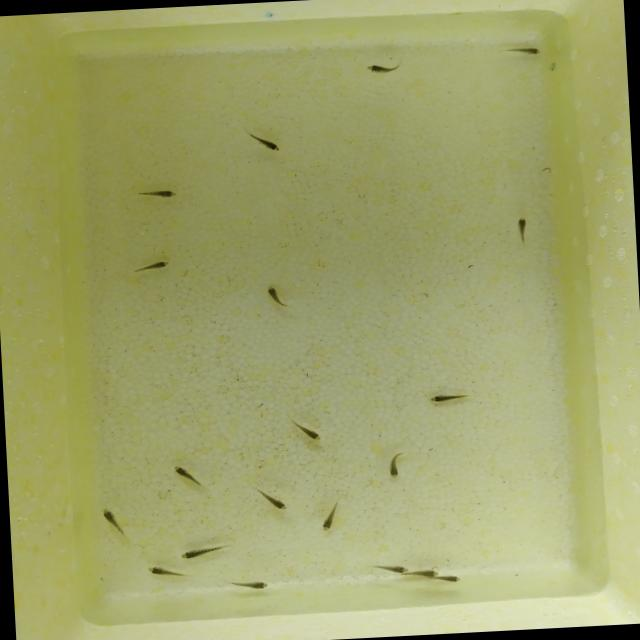fingerling: (164, 462, 206, 488), (314, 506, 344, 532), (426, 388, 466, 407), (264, 492, 296, 515), (296, 420, 324, 446), (252, 134, 285, 156), (142, 563, 180, 579), (101, 503, 121, 532), (511, 214, 534, 239), (511, 45, 556, 57), (134, 258, 172, 272), (145, 186, 183, 200), (177, 547, 214, 561), (385, 456, 404, 482), (267, 280, 282, 312), (230, 580, 275, 590), (412, 567, 442, 580), (439, 572, 466, 586), (364, 64, 396, 74), (382, 564, 412, 574)
